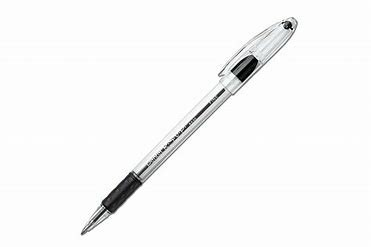pen: (77, 16, 298, 236)
